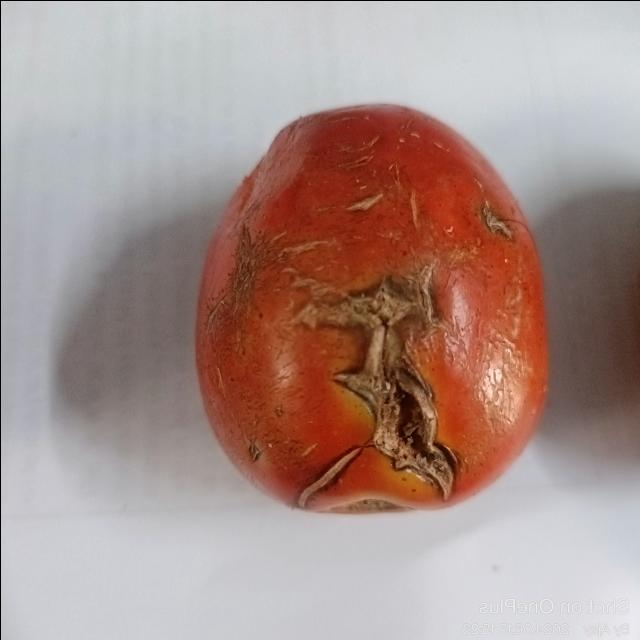tomato_cracking: (285, 278, 460, 504)
